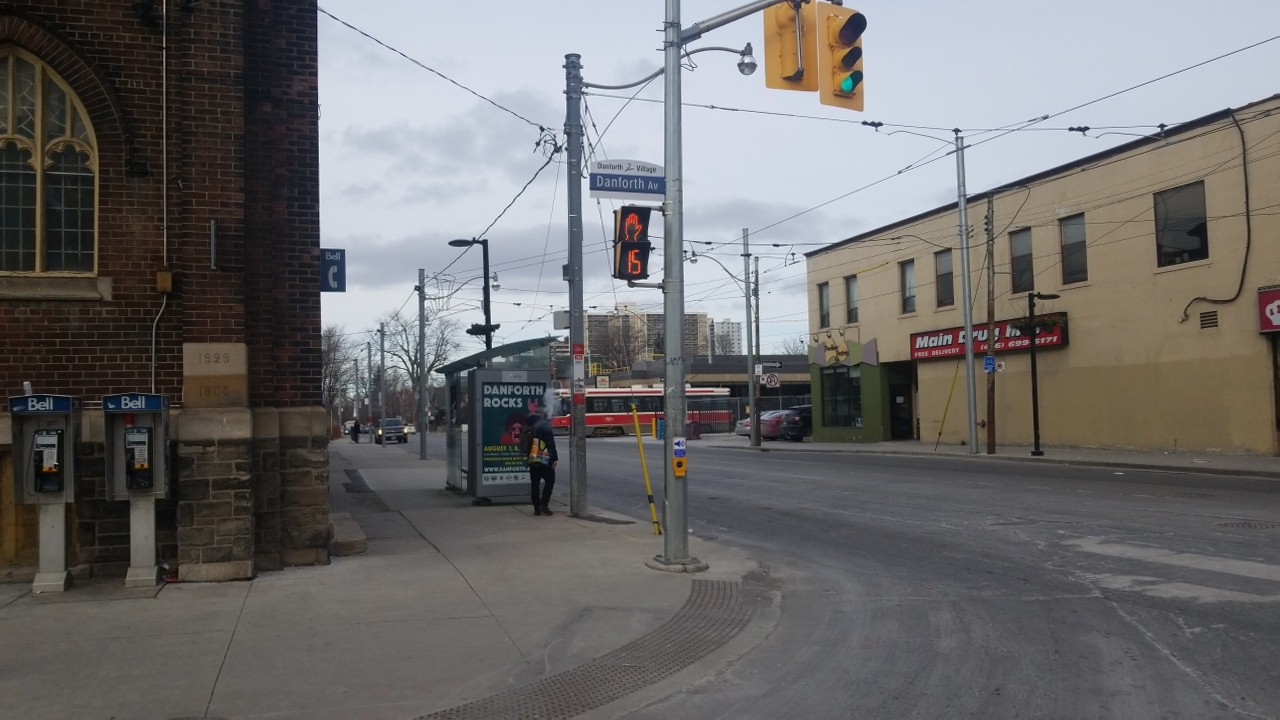light: (612, 202, 650, 281)
